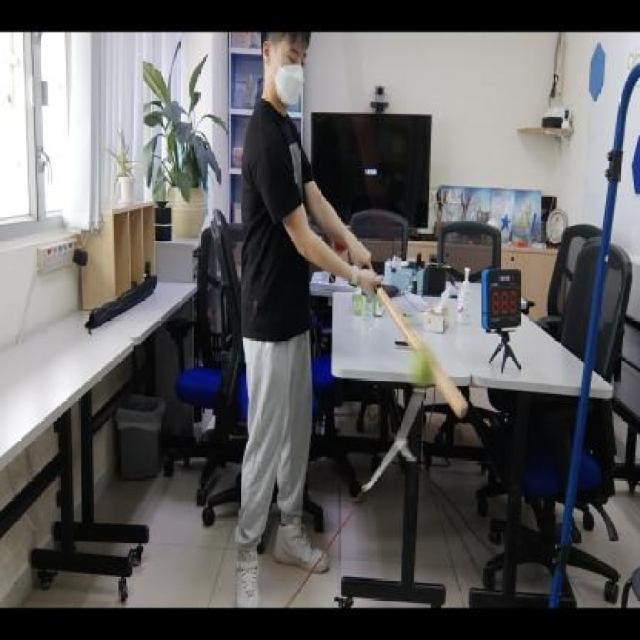baseball: (407, 345, 435, 392)
